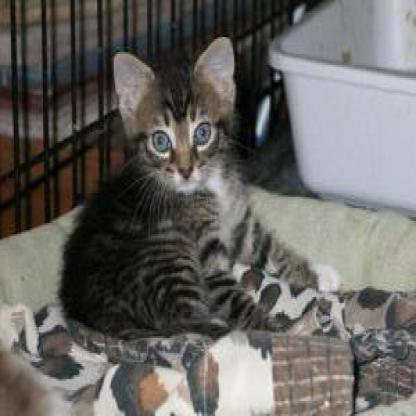cat: (99, 40, 322, 350)
